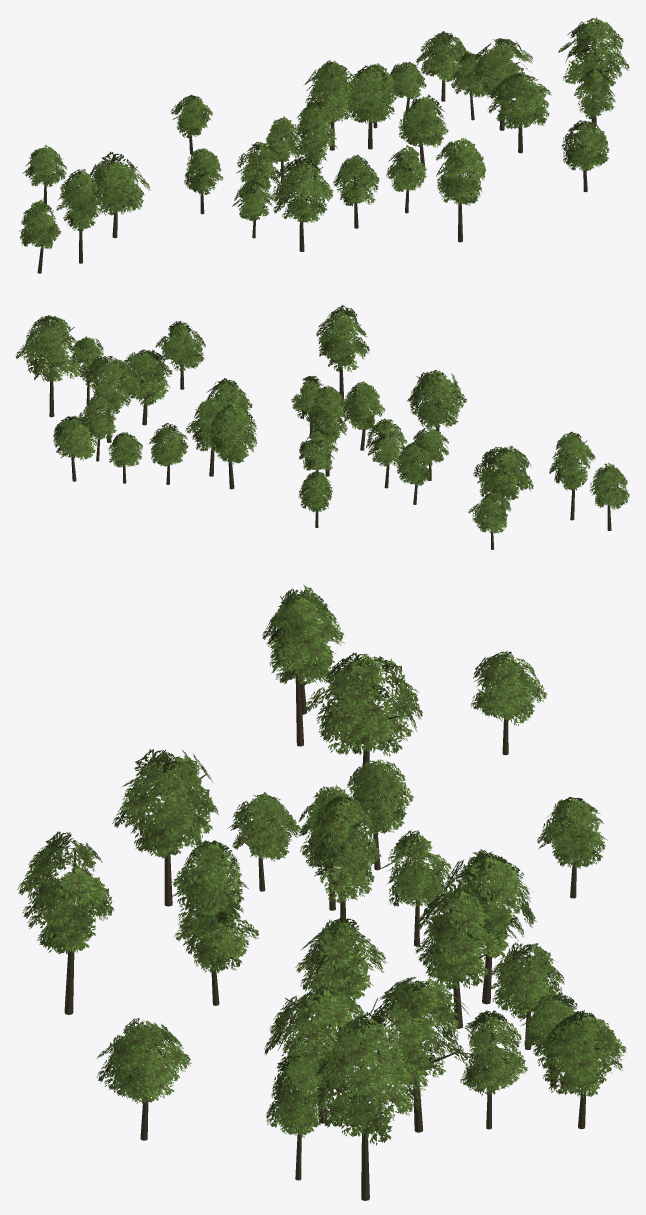
The model's file is TRB8-FOREST-CHUNK-4-6.glb.
3 renders of one model, top to bottom at view 1: azimuth 30°, elevation 25°; view 2: azimuth 150°, elevation 25°; view 3: azimuth 270°, elevation 25°, orthographic. The views are drawn at different scales.
Visible parts, largest first — view 1: TRB8-FOREST-CHUNK-4-6; view 2: TRB8-FOREST-CHUNK-4-6; view 3: TRB8-FOREST-CHUNK-4-6.
Part boxes in pixels (x1,y1,x2,y2): TRB8-FOREST-CHUNK-4-6: (19, 17, 629, 273); TRB8-FOREST-CHUNK-4-6: (15, 305, 629, 549); TRB8-FOREST-CHUNK-4-6: (17, 584, 626, 1200).
Bounding box in the file's own units: 37.57 × 6.19 × 18.74.
Materials: 2 (1 with a texture image).
